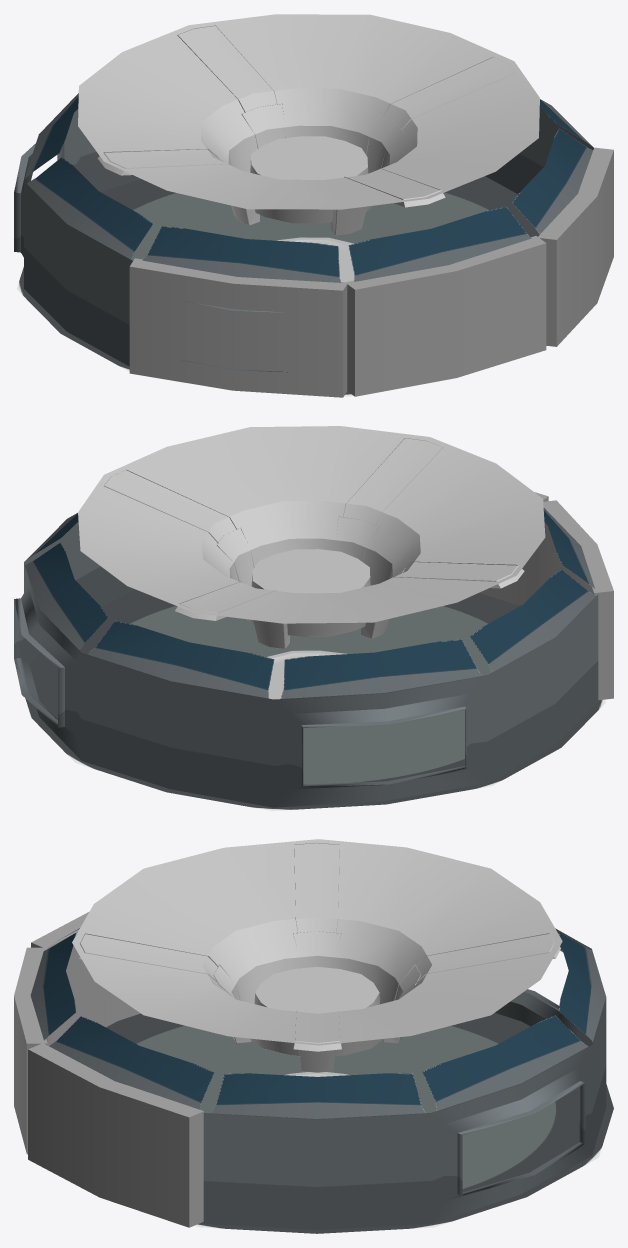
The model's file is platform_backup.fbx.
3 renders of one model, top to bottom at view 1: azimuth 30°, elevation 25°; view 2: azimuth 150°, elevation 25°; view 3: azimuth 270°, elevation 25°, orthographic. The views are drawn at different scales.
Visible parts, largest first — view 1: Roof_Base, Wall, WallC_UCX3, WallC_UCX2, Floor, WallC_UCX, RoofColumn_2, RoofColumn_1, BottomStage; view 2: Wall, Roof_Base, Floor, WallC_UCX3, RoofColumn_4, WallC_UCX2, BottomStage, RoofColumn_1; view 3: Roof_Base, Wall, Floor, WallC_UCX, WallC_UCX3, WallC_UCX2, RoofColumn_3, RoofColumn_4, RoofColumn_2.
Boxes of the visible parts, bbox=[...] form: Roof_Base: bbox=[78, 14, 539, 223]; Wall: bbox=[14, 93, 593, 393]; WallC_UCX3: bbox=[129, 258, 347, 397]; WallC_UCX2: bbox=[346, 236, 546, 396]; Floor: bbox=[17, 176, 546, 396]; WallC_UCX: bbox=[537, 147, 613, 346]; RoofColumn_2: bbox=[330, 168, 445, 235]; RoofColumn_1: bbox=[97, 148, 259, 225]; BottomStage: bbox=[275, 237, 354, 282]; Wall: bbox=[14, 507, 598, 807]; Roof_Base: bbox=[78, 426, 545, 636]; Floor: bbox=[25, 589, 605, 810]; WallC_UCX3: bbox=[537, 500, 613, 700]; RoofColumn_4: bbox=[175, 581, 289, 648]; WallC_UCX2: bbox=[479, 492, 548, 605]; BottomStage: bbox=[266, 650, 346, 699]; RoofColumn_1: bbox=[361, 561, 524, 639]; Roof_Base: bbox=[72, 839, 562, 1056]; Wall: bbox=[30, 928, 606, 1229]; Floor: bbox=[106, 1013, 613, 1233]; WallC_UCX: bbox=[28, 1043, 203, 1227]; WallC_UCX3: bbox=[31, 912, 140, 1045]; WallC_UCX2: bbox=[14, 947, 47, 1154]; RoofColumn_3: bbox=[293, 1011, 341, 1072]; RoofColumn_4: bbox=[383, 933, 560, 1043]; RoofColumn_2: bbox=[74, 933, 251, 1043].
Bounding box in the file's own units: 40 × 12.4 × 40.41.
